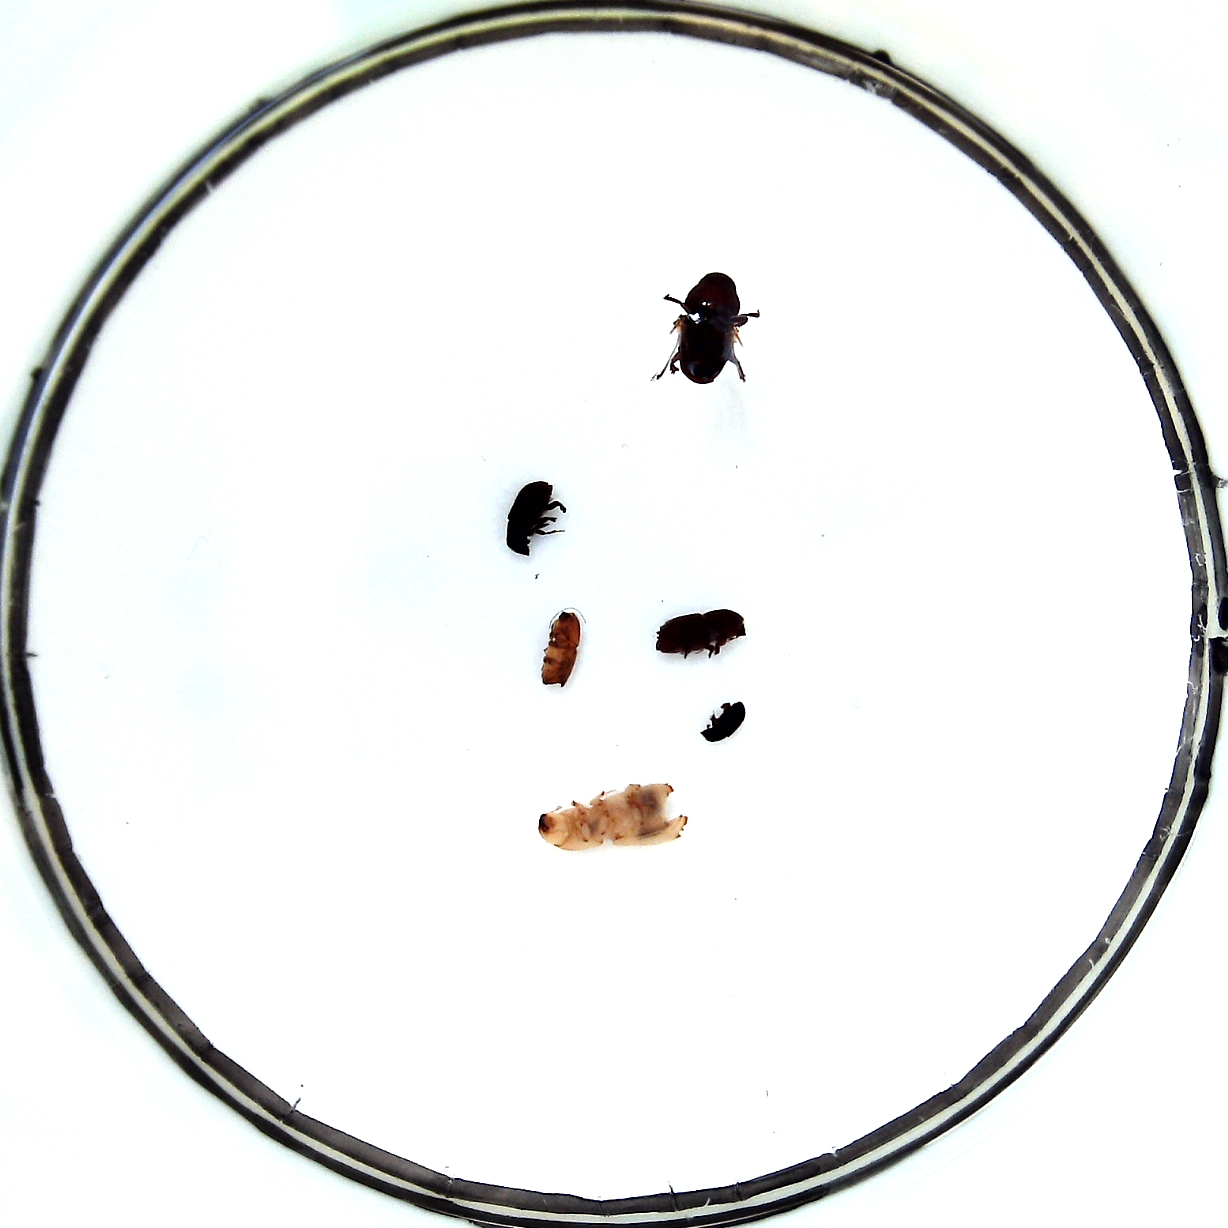Boerner: (539, 782, 687, 851)
Leconte: (675, 271, 740, 383)
acuminatus: (699, 699, 746, 741)
armandi: (504, 480, 554, 556)
linnaeus: (654, 607, 746, 656), (541, 611, 580, 687)
